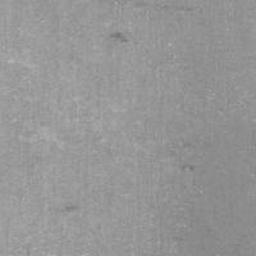Inclusion: (110, 29, 128, 44), (63, 204, 77, 214), (182, 164, 195, 173)
